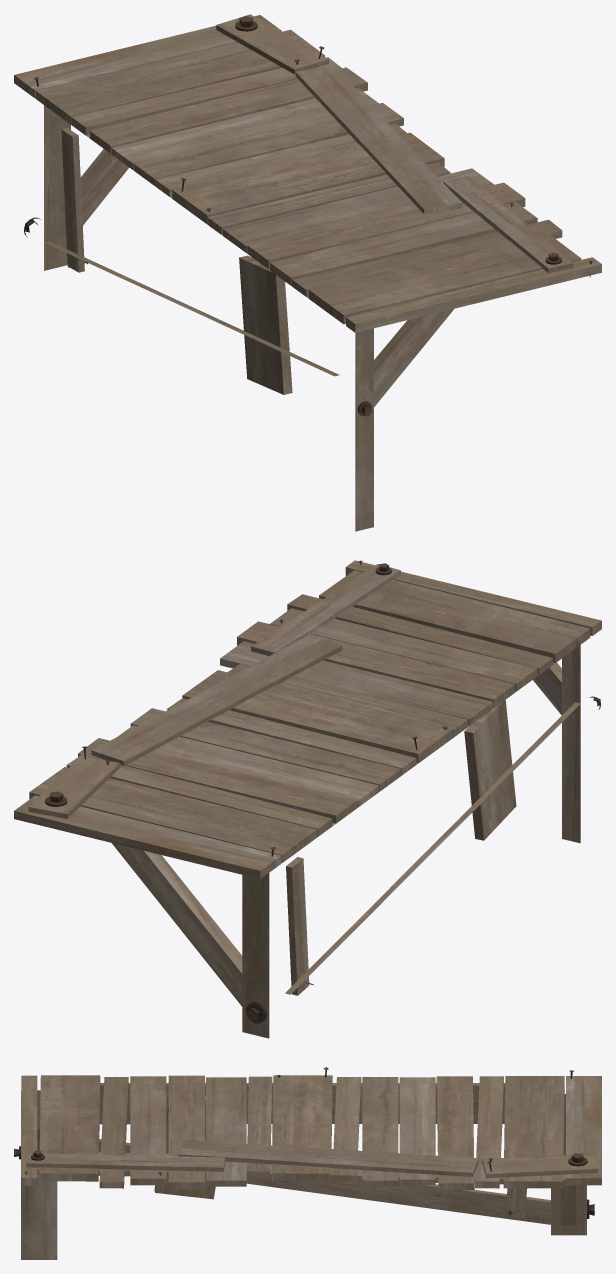
3 renders of one model, top to bottom at view 1: azimuth 30°, elevation 25°; view 2: azimuth 150°, elevation 25°; view 3: azimuth 270°, elevation 25°, orthographic. The views are drawn at different scales.
Parts seen in each view (by area): view 1: body0_model0_lod0_mesh0, body0_model0_lod0_mesh1; view 2: body0_model0_lod0_mesh0, body0_model0_lod0_mesh1; view 3: body0_model0_lod0_mesh0, body0_model0_lod0_mesh1.
Boxes of the visible parts, box(x1,y1,x2,y2) form: body0_model0_lod0_mesh0: box(14, 14, 601, 531); body0_model0_lod0_mesh1: box(24, 16, 592, 416); body0_model0_lod0_mesh0: box(14, 560, 601, 1038); body0_model0_lod0_mesh1: box(45, 560, 600, 1023); body0_model0_lod0_mesh0: box(21, 1075, 601, 1259); body0_model0_lod0_mesh1: box(14, 1067, 594, 1218).
Bounding box in the file's own units: 123 × 102 × 286.
Materials: 2 (2 with a texture image).
